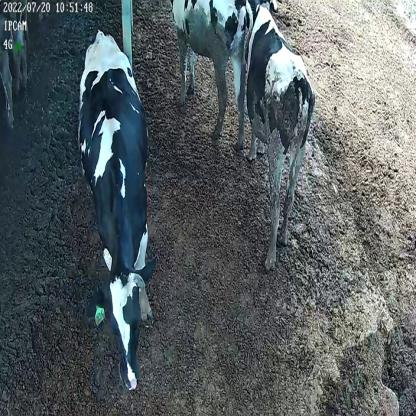cow: (75, 31, 159, 390), (245, 0, 318, 271), (170, 0, 253, 151)
